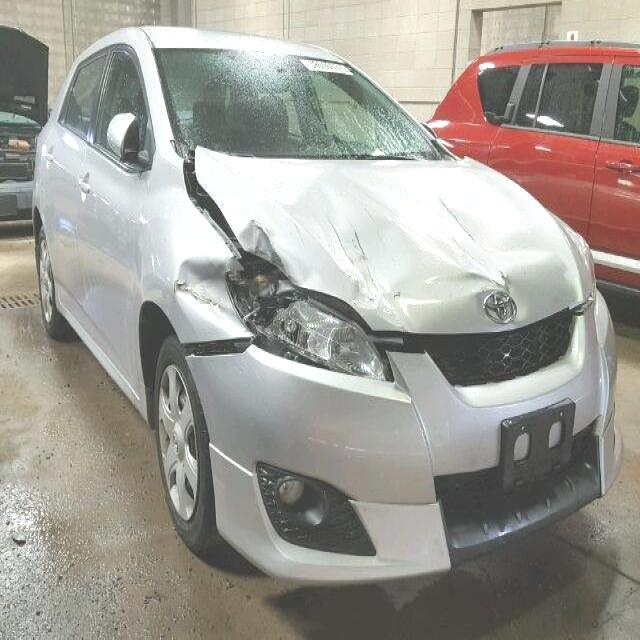minor: (305, 438, 394, 467)
moderate: (138, 150, 590, 382)
